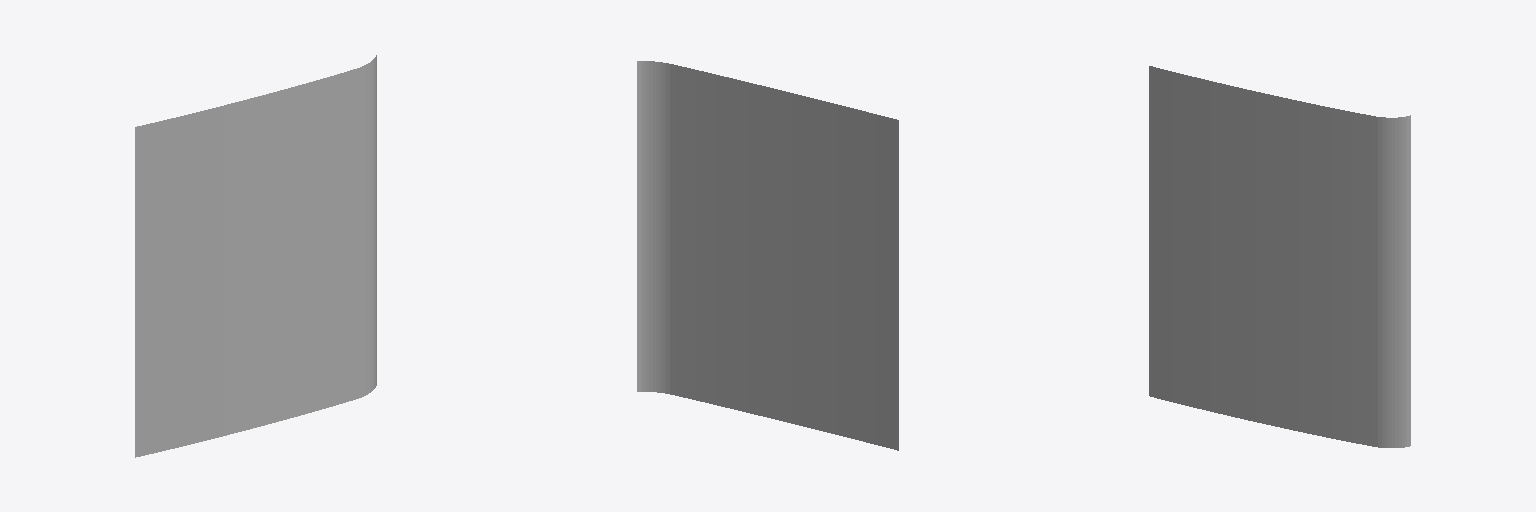
Rendered from left-list1.obj.
The picture shows the model from 3 angles: view 1: azimuth 30°, elevation 25°; view 2: azimuth 150°, elevation 25°; view 3: azimuth 330°, elevation 25°; orthographic projection.
Visible parts, largest first — view 1: Cube.001; view 2: Cube.001; view 3: Cube.001.
Part boxes in pixels (bbox=[...]): Cube.001: bbox=[135, 55, 376, 457]; Cube.001: bbox=[637, 61, 898, 450]; Cube.001: bbox=[1149, 66, 1410, 447].
Size of the model in its own units: 1.94 by 2.46 by 0.1423.